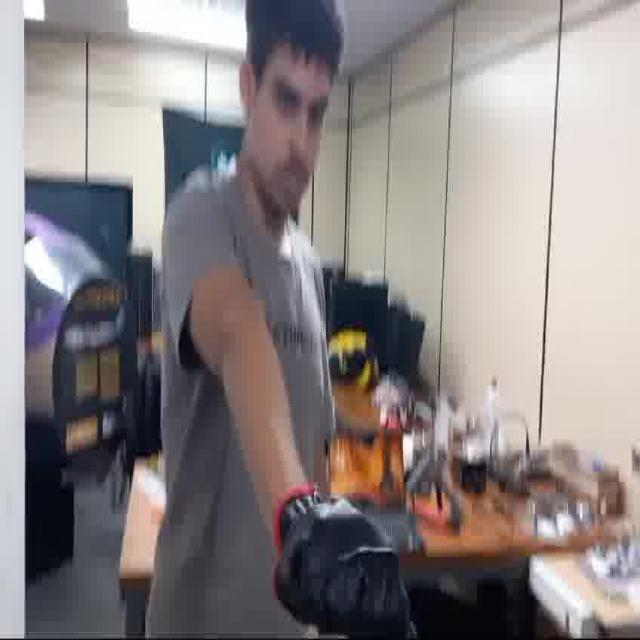Gloves: (275, 488, 416, 640)
